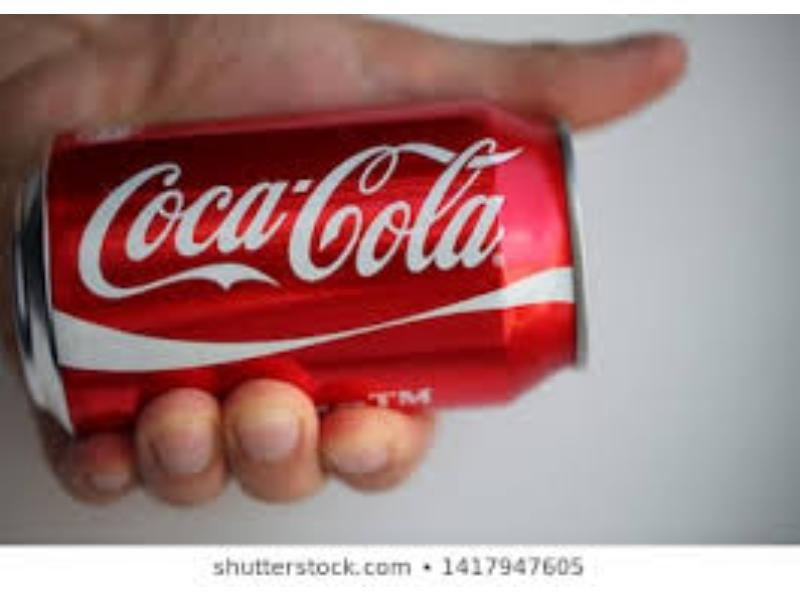can: (13, 120, 604, 406)
